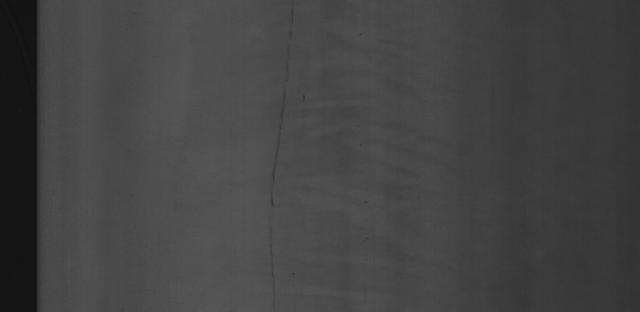inclusion: (259, 8, 303, 297)
